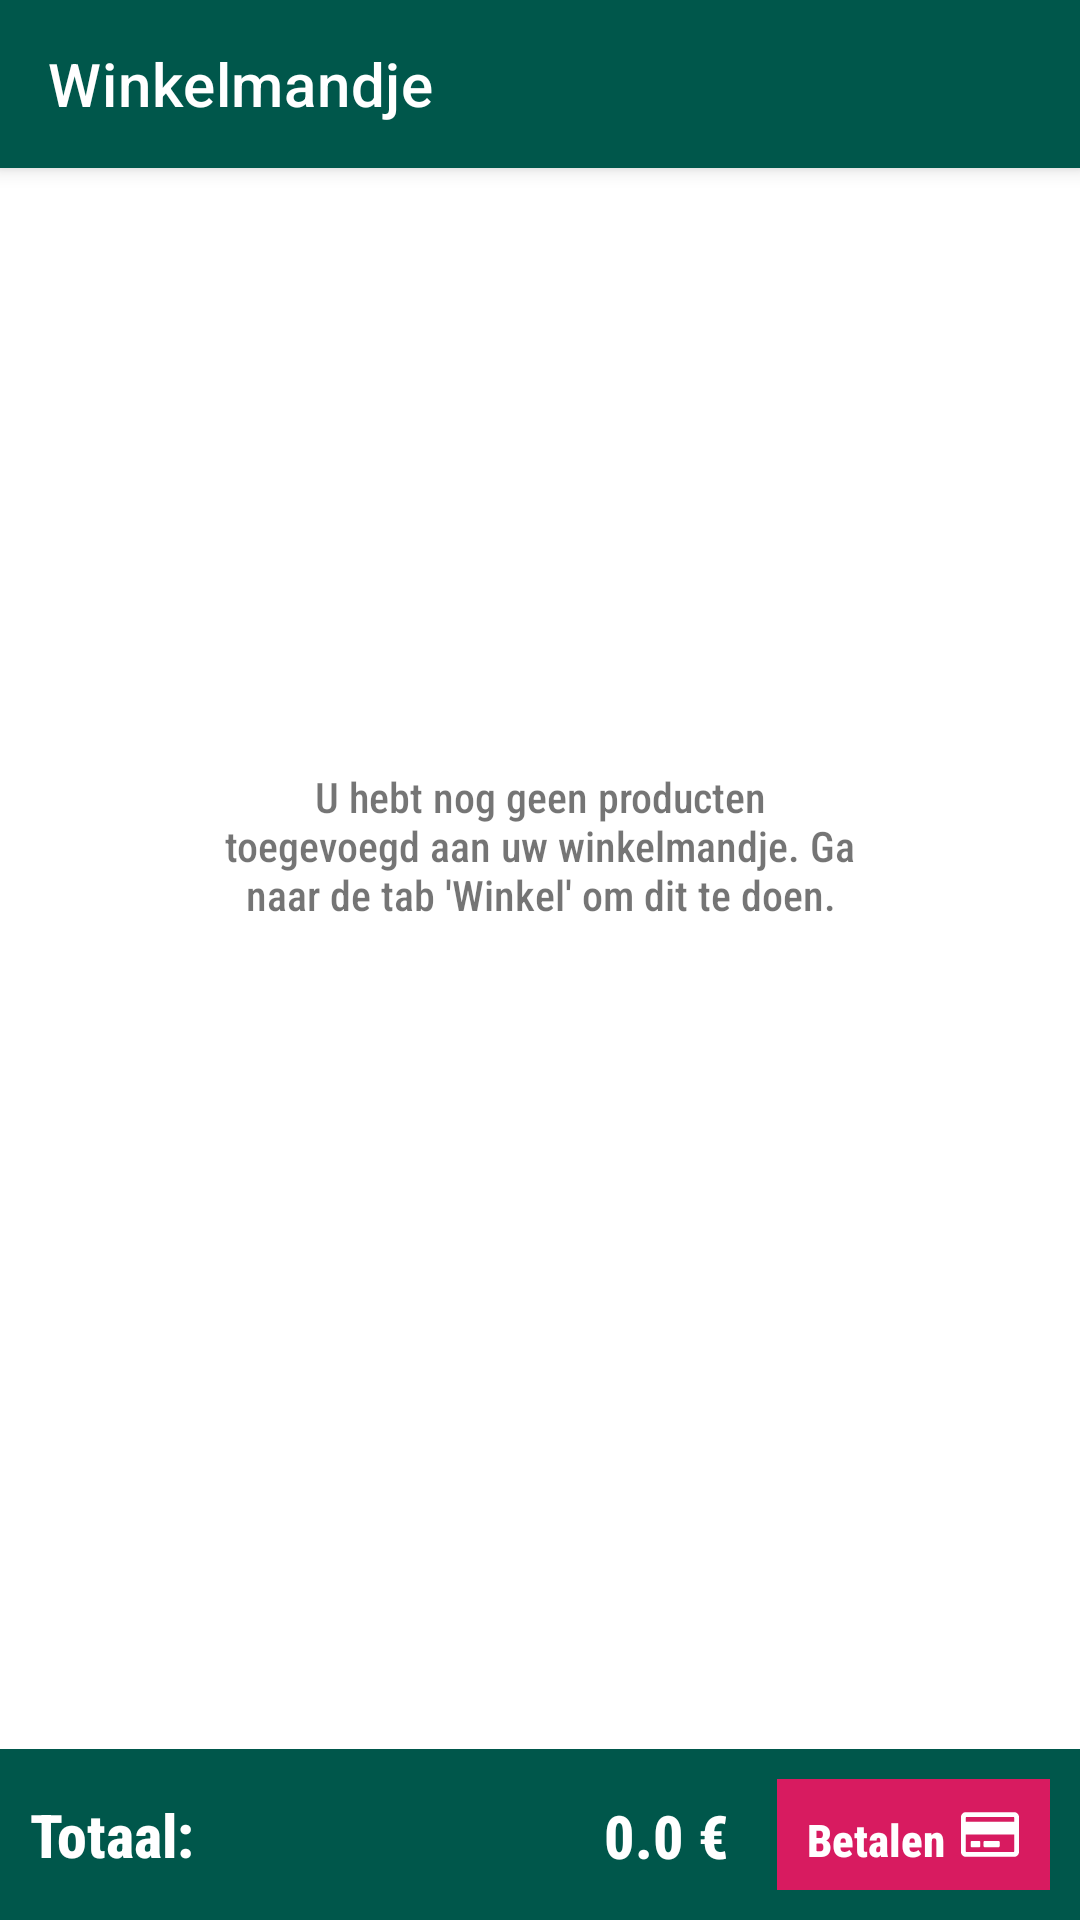

Screen size 1080 x 1920. Icon name, then its box in pixels as box(x1, y1, x2, y2):
credit card: box(961, 1812, 1019, 1857)
